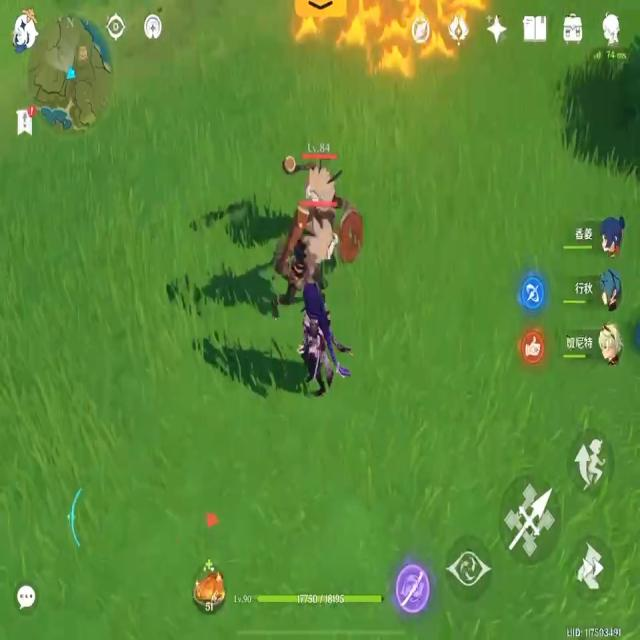genshin-hilichurls: (260, 197, 342, 291), (296, 147, 339, 231)
